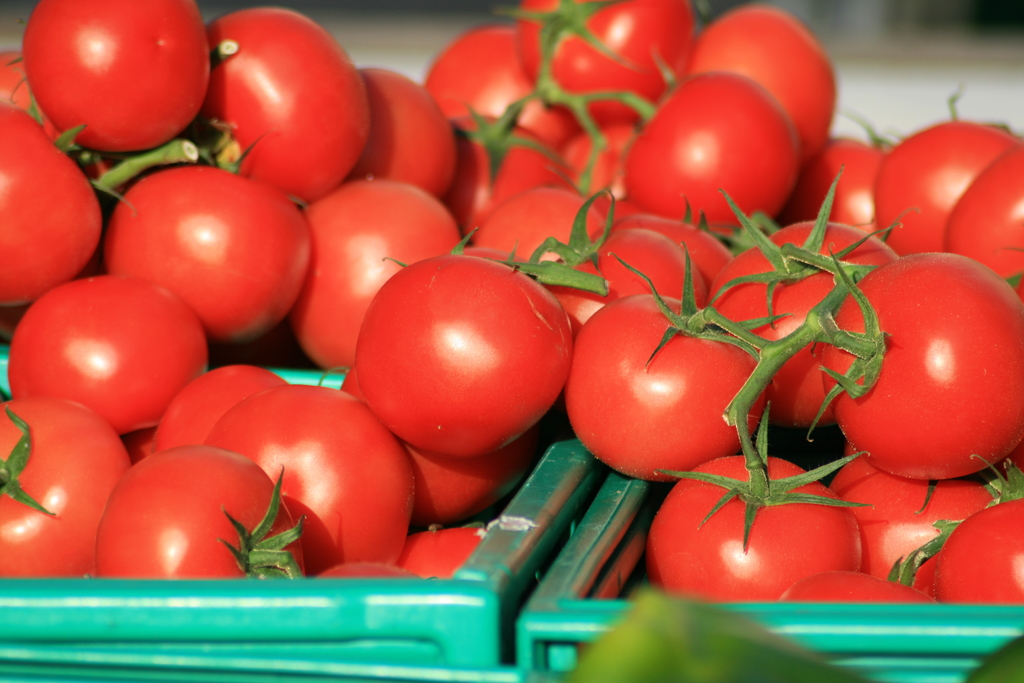Tomato: (0, 0, 574, 581), (563, 0, 1023, 603), (206, 8, 375, 205)
